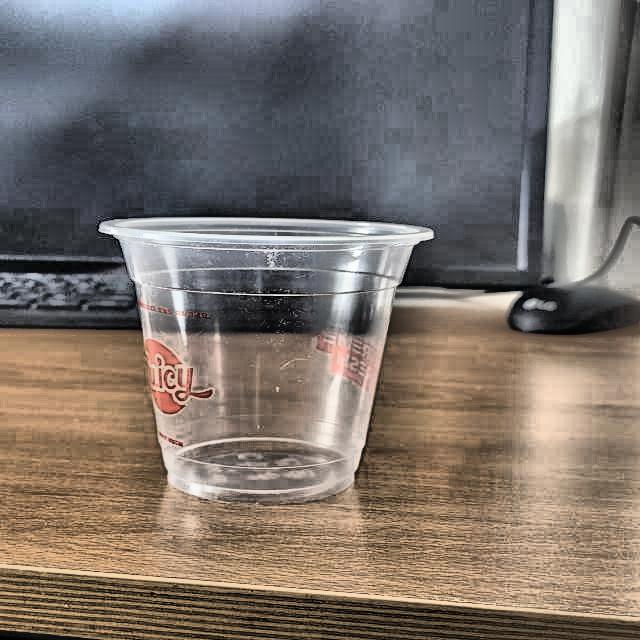plastic cup: (99, 215, 434, 506)
